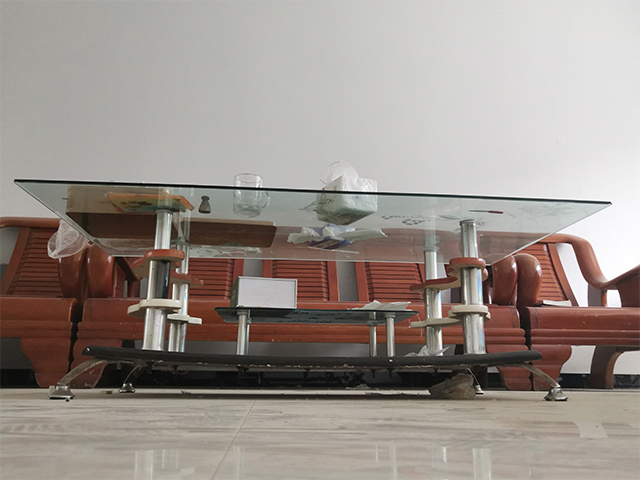stool: (482, 228, 640, 391), (1, 213, 78, 387)
table: (13, 180, 616, 406)
